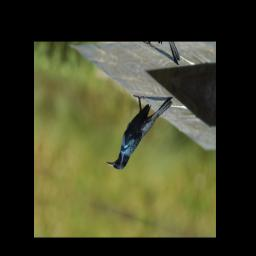Crow: (105, 80, 175, 185)
